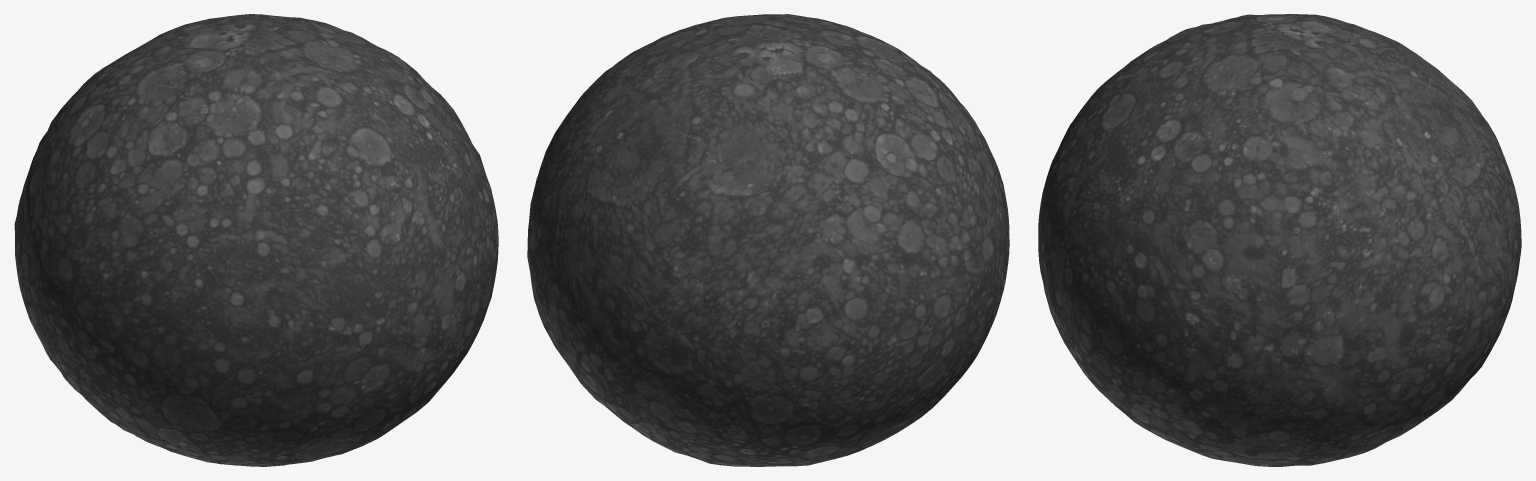
The picture shows the model from 3 angles, left to right: view 1: azimuth 30°, elevation 25°; view 2: azimuth 150°, elevation 25°; view 3: azimuth 270°, elevation 25°; orthographic projection.
Parts seen in each view (by area): view 1: CeresLP; view 2: CeresLP; view 3: CeresLP.
Part boxes in pixels (x1,y1,x2,y2): CeresLP: (14,14,498,466); CeresLP: (527,14,1009,466); CeresLP: (1038,14,1521,466).
Bounding box in the file's own units: 9.68 × 8.96 × 9.66.
Materials: 1 (1 with a texture image).
